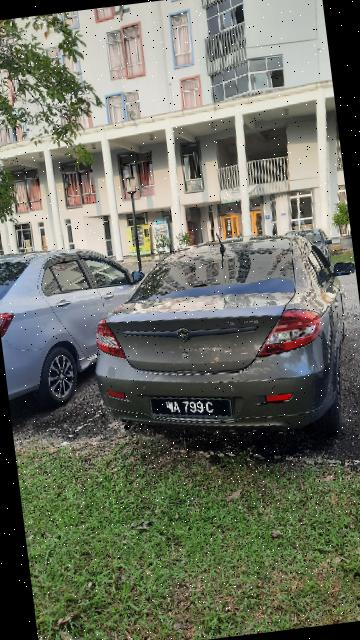License_Plate: (151, 389, 233, 428)
car: (84, 228, 359, 451), (1, 242, 159, 409), (285, 227, 336, 270)
